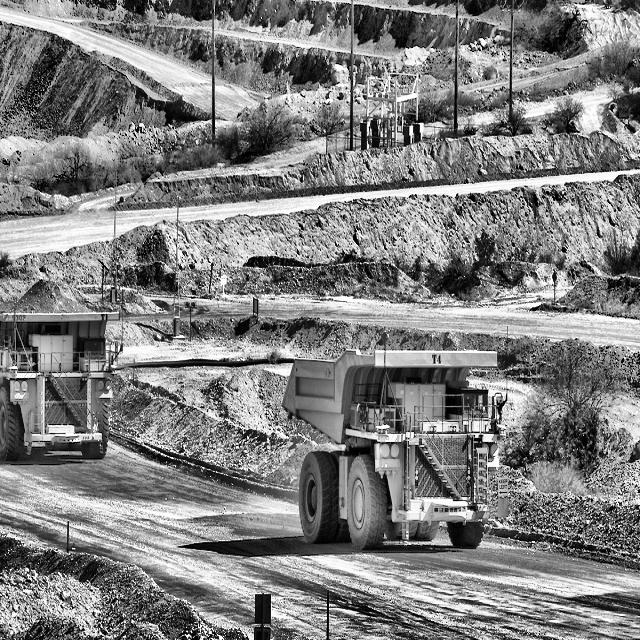dump_truck: (275, 345, 510, 562), (0, 269, 116, 468)
